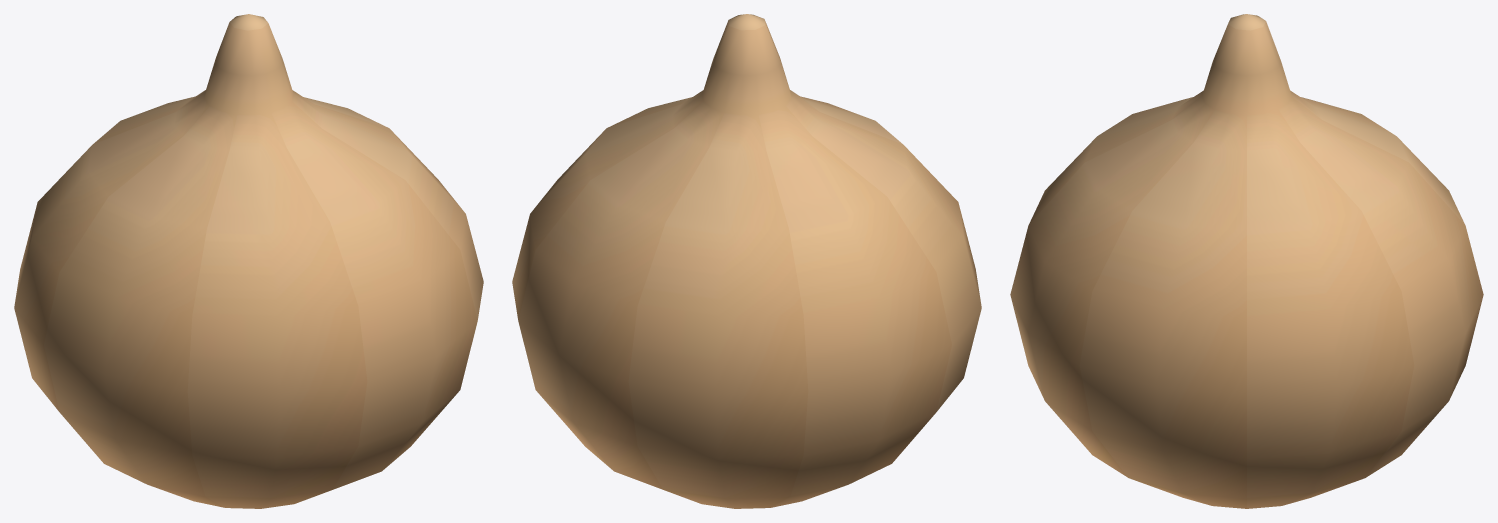
File: kaykit-restaurant-bits-food-ingredient-onion.glb
3 renders of one model, left to right at view 1: azimuth 30°, elevation 25°; view 2: azimuth 150°, elevation 25°; view 3: azimuth 270°, elevation 25°, orthographic.
Parts seen in each view (by area): view 1: food_ingredient_onion; view 2: food_ingredient_onion; view 3: food_ingredient_onion.
Boxes of the visible parts, bbox=[...] form: food_ingredient_onion: bbox=[14, 14, 483, 508]; food_ingredient_onion: bbox=[512, 14, 981, 508]; food_ingredient_onion: bbox=[1010, 14, 1483, 508].
Bounding box in the file's own units: 0.75 × 0.8624 × 0.75.
1 material, 1 textured.
